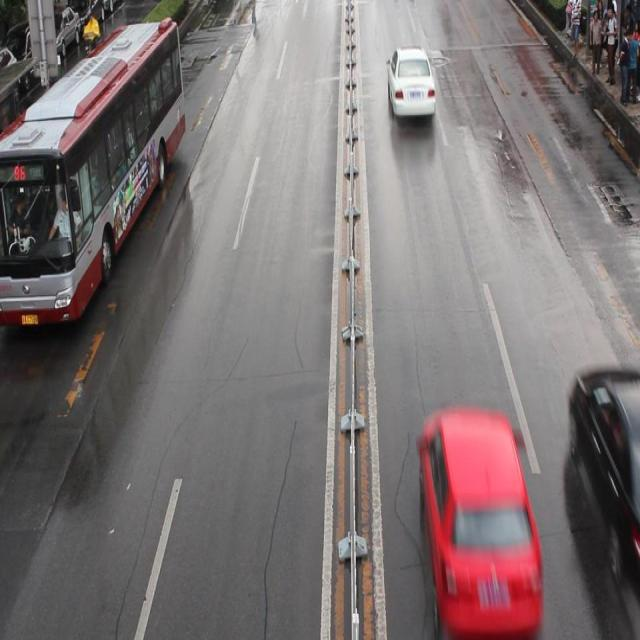car: (419, 410, 543, 623), (568, 363, 640, 571), (386, 49, 436, 118)
van: (1, 17, 186, 321)
